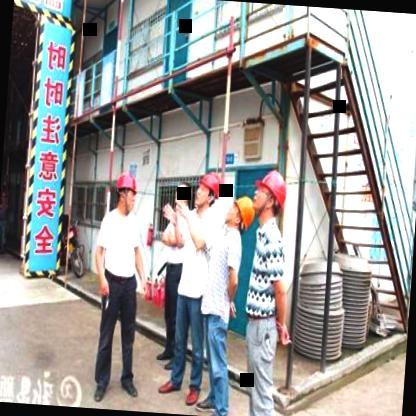head: (171, 179, 194, 209)
helmet: (254, 165, 289, 218), (224, 192, 258, 233), (194, 170, 226, 209), (112, 170, 140, 214)
